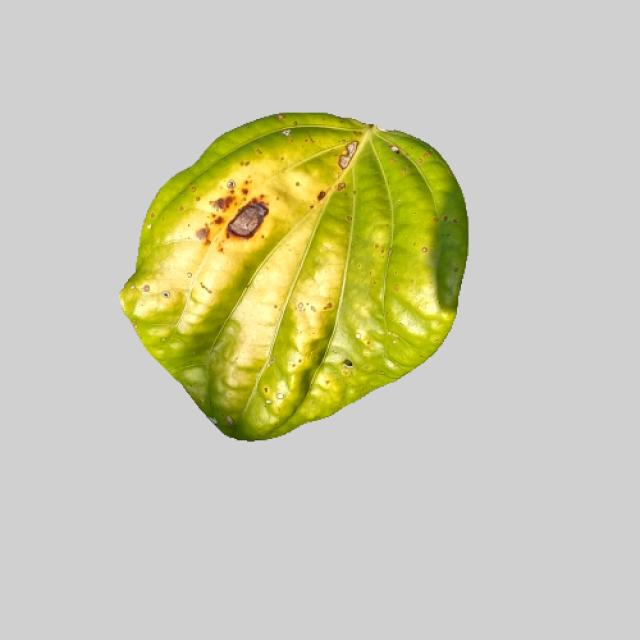leaf-blight: (109, 111, 468, 439)
